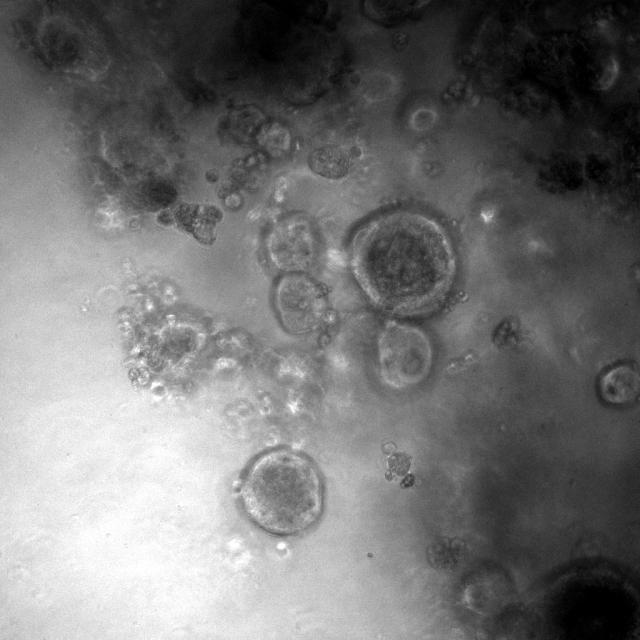organoid: (16, 0, 348, 212), (442, 0, 639, 212), (116, 278, 326, 444), (346, 201, 456, 391), (460, 558, 639, 639), (258, 211, 338, 346), (236, 445, 323, 536), (218, 104, 291, 209), (156, 202, 222, 245), (596, 359, 639, 407), (360, 0, 431, 27), (308, 143, 361, 178), (382, 442, 414, 487), (428, 536, 465, 570), (205, 169, 218, 182)
